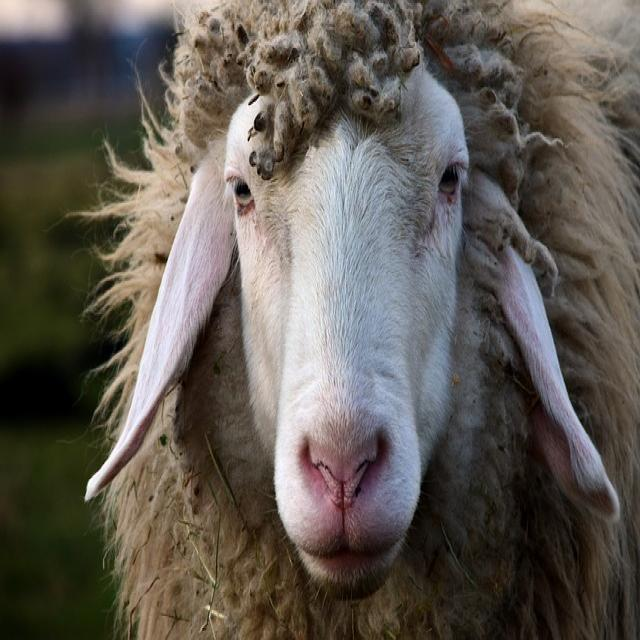goat: (70, 0, 640, 640)
